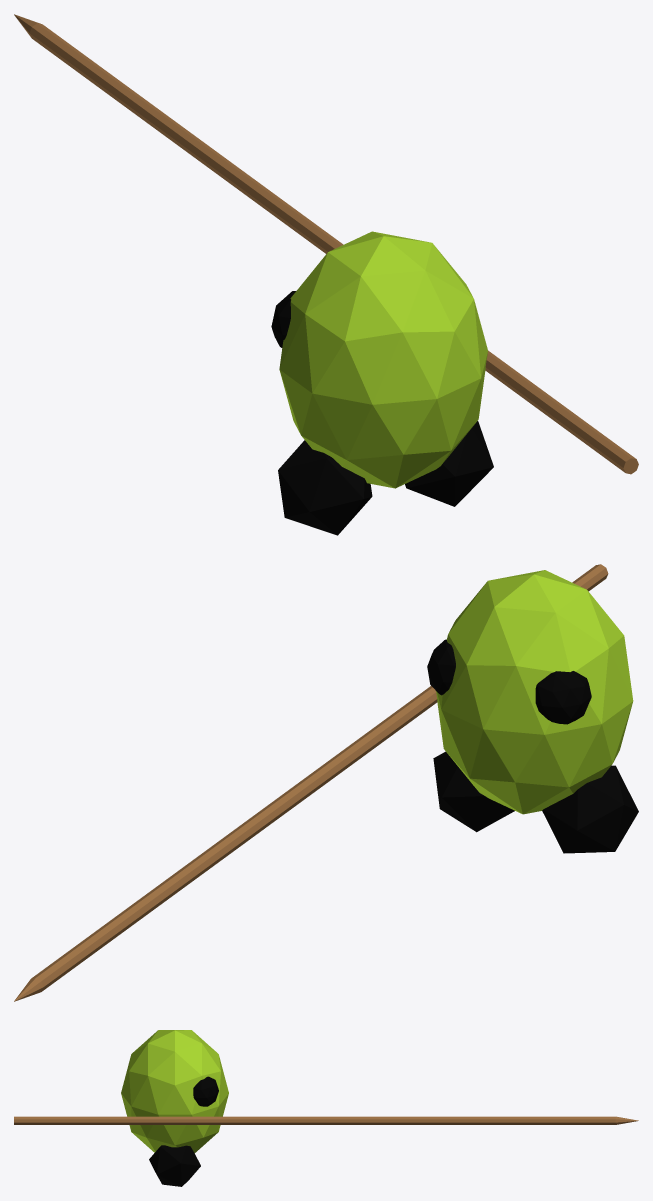
File: stab.f0017.glb
3 renders of one model, top to bottom at view 1: azimuth 30°, elevation 25°; view 2: azimuth 150°, elevation 25°; view 3: azimuth 270°, elevation 25°, orthographic. The views are drawn at different scales.
Visible parts, largest first — view 1: Body.001; view 2: Body.001; view 3: Body.001.
Boxes of the visible parts, box(x1,y1,x2,y2) form: Body.001: box(14, 14, 638, 535); Body.001: box(14, 564, 638, 1001); Body.001: box(14, 1030, 638, 1186).
Bounding box in the file's own units: 2.17 × 2.85 × 11.56.
Materials: 1 (1 with a texture image).
